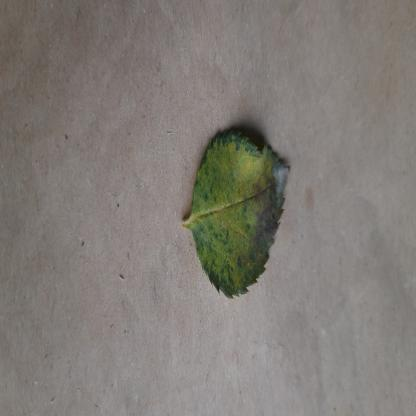black-spot: (189, 126, 291, 298)
